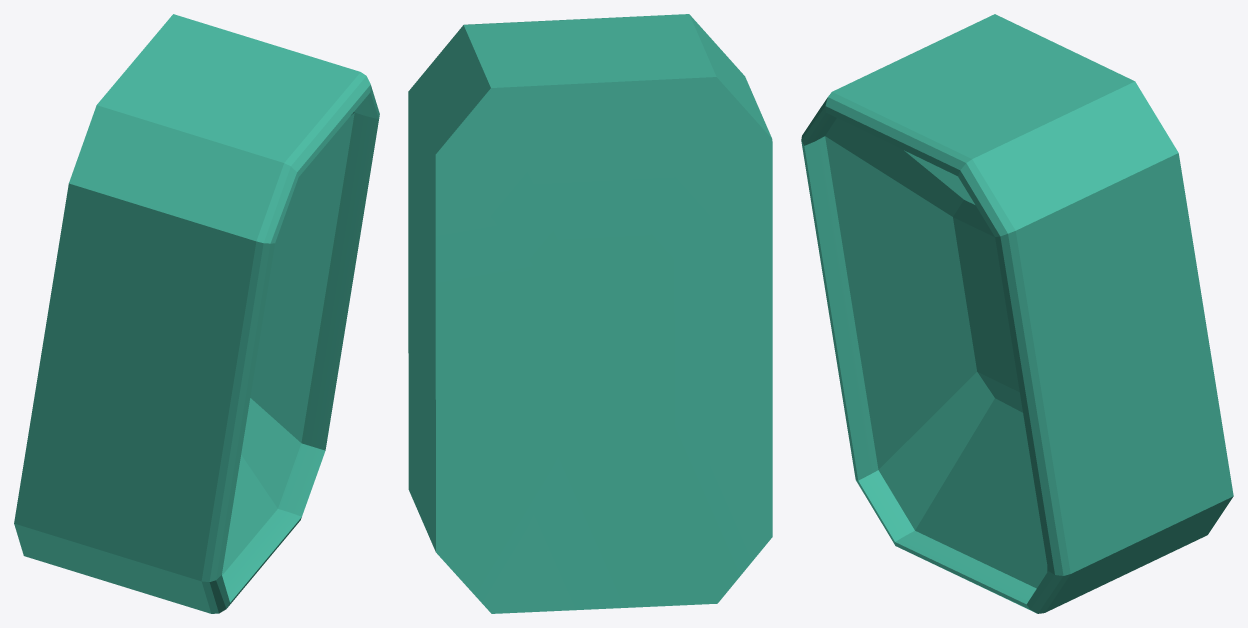
The model's file is BR3_8shapes_Emerald_Classic_Metal.001 3.glb.
The picture shows the model from 3 angles, left to right: view 1: azimuth 30°, elevation 25°; view 2: azimuth 150°, elevation 25°; view 3: azimuth 270°, elevation 25°; orthographic projection. The views are drawn at different scales.
Visible parts, largest first — view 1: BR3_8shapes_Emerald_Classic_Metal.001; view 2: BR3_8shapes_Emerald_Classic_Metal.001; view 3: BR3_8shapes_Emerald_Classic_Metal.001.
Part boxes in pixels (x1,y1,x2,y2): BR3_8shapes_Emerald_Classic_Metal.001: (14,14,379,613); BR3_8shapes_Emerald_Classic_Metal.001: (408,14,772,613); BR3_8shapes_Emerald_Classic_Metal.001: (801,14,1233,613).
Bounding box in the file's own units: 0.5003 × 0.6704 × 0.5229.
